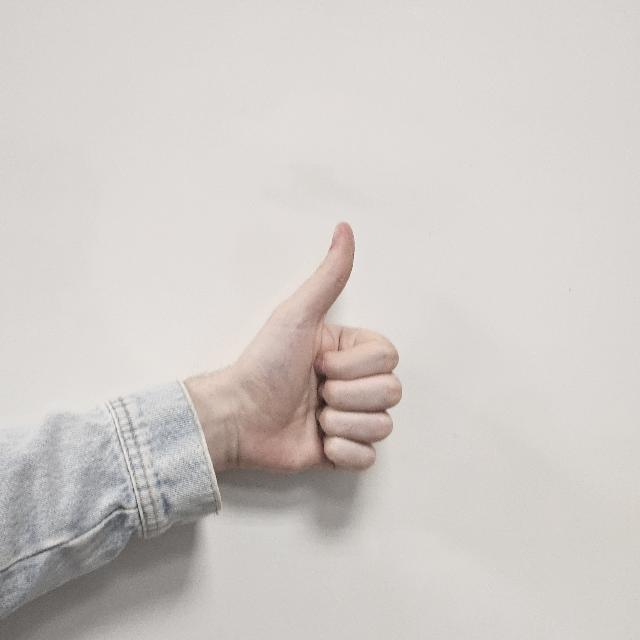Start: (190, 218, 402, 486)
